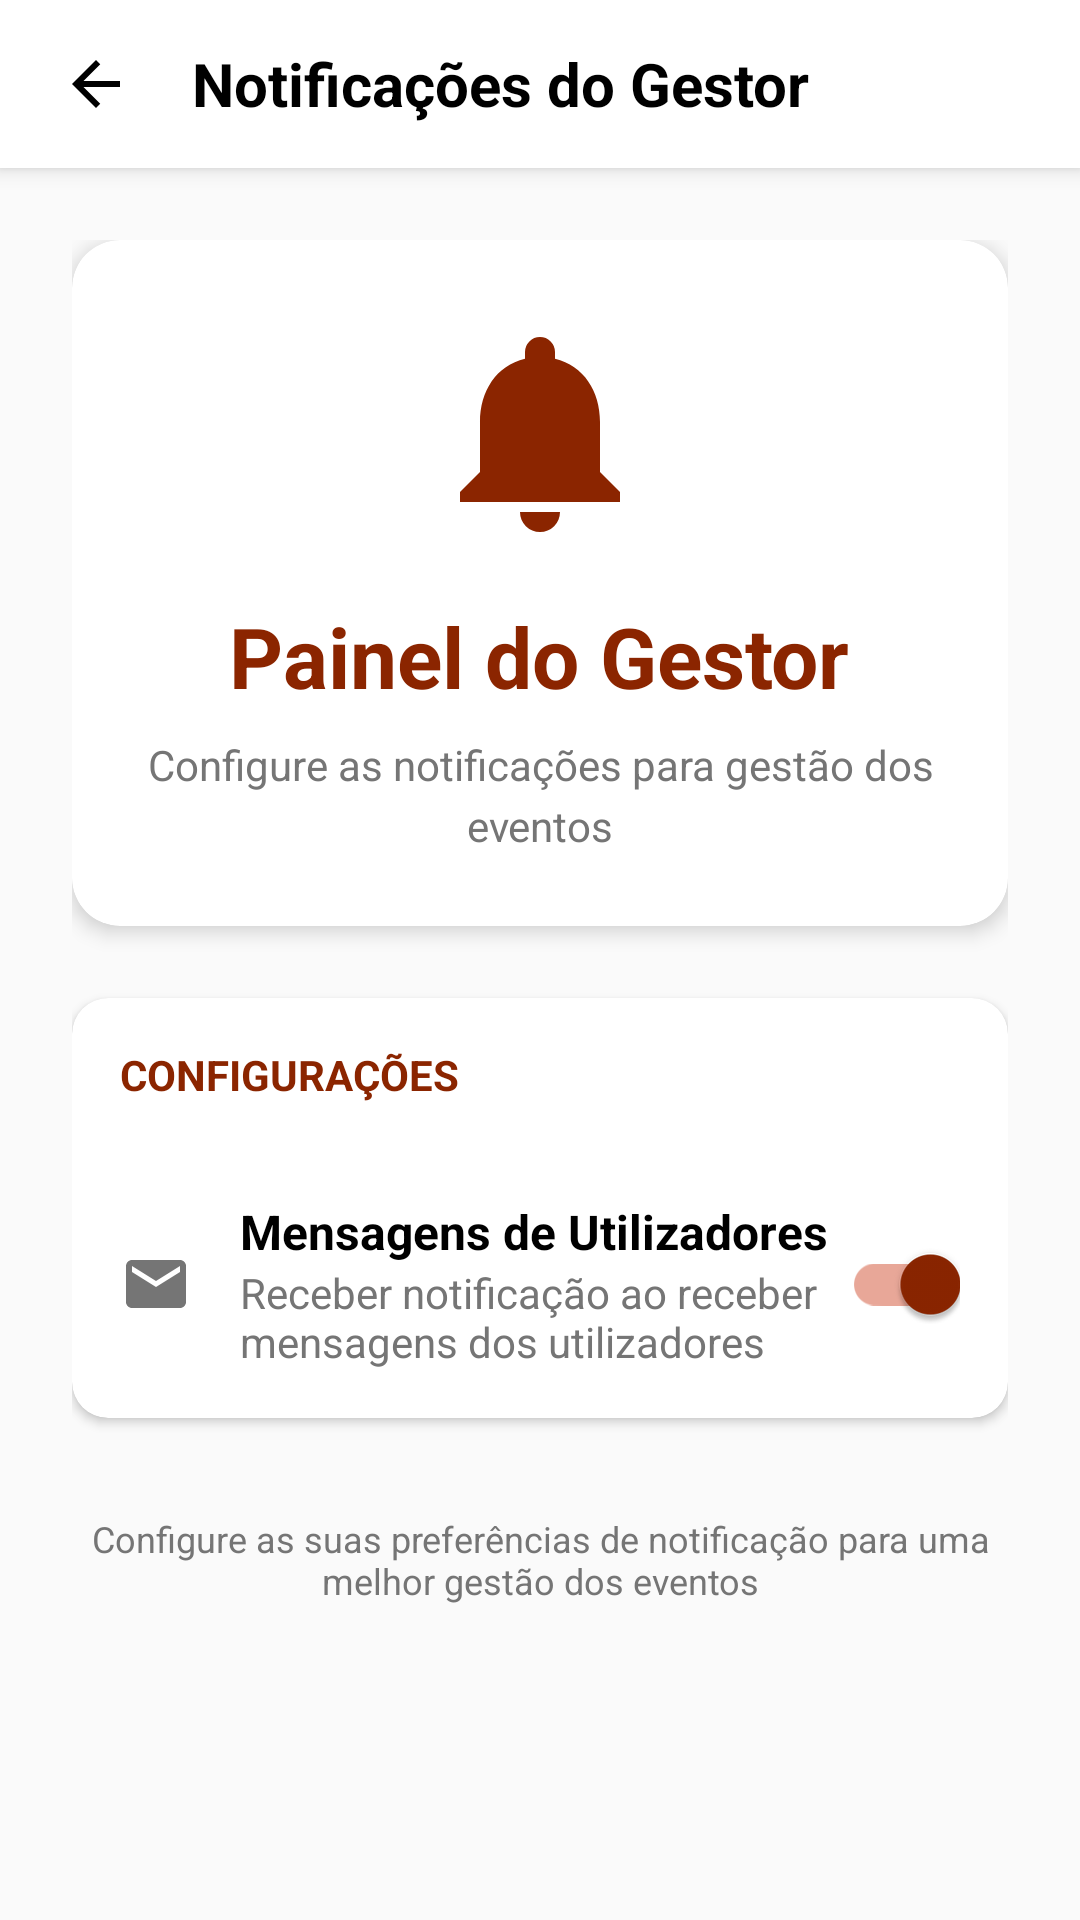

Icons on this 1080*1920 Android screen, each with its box as (x1, y1, x2, y2):
email: (126, 1260, 186, 1308)
notification: (460, 337, 620, 532)
Voltar: (72, 60, 120, 108)
